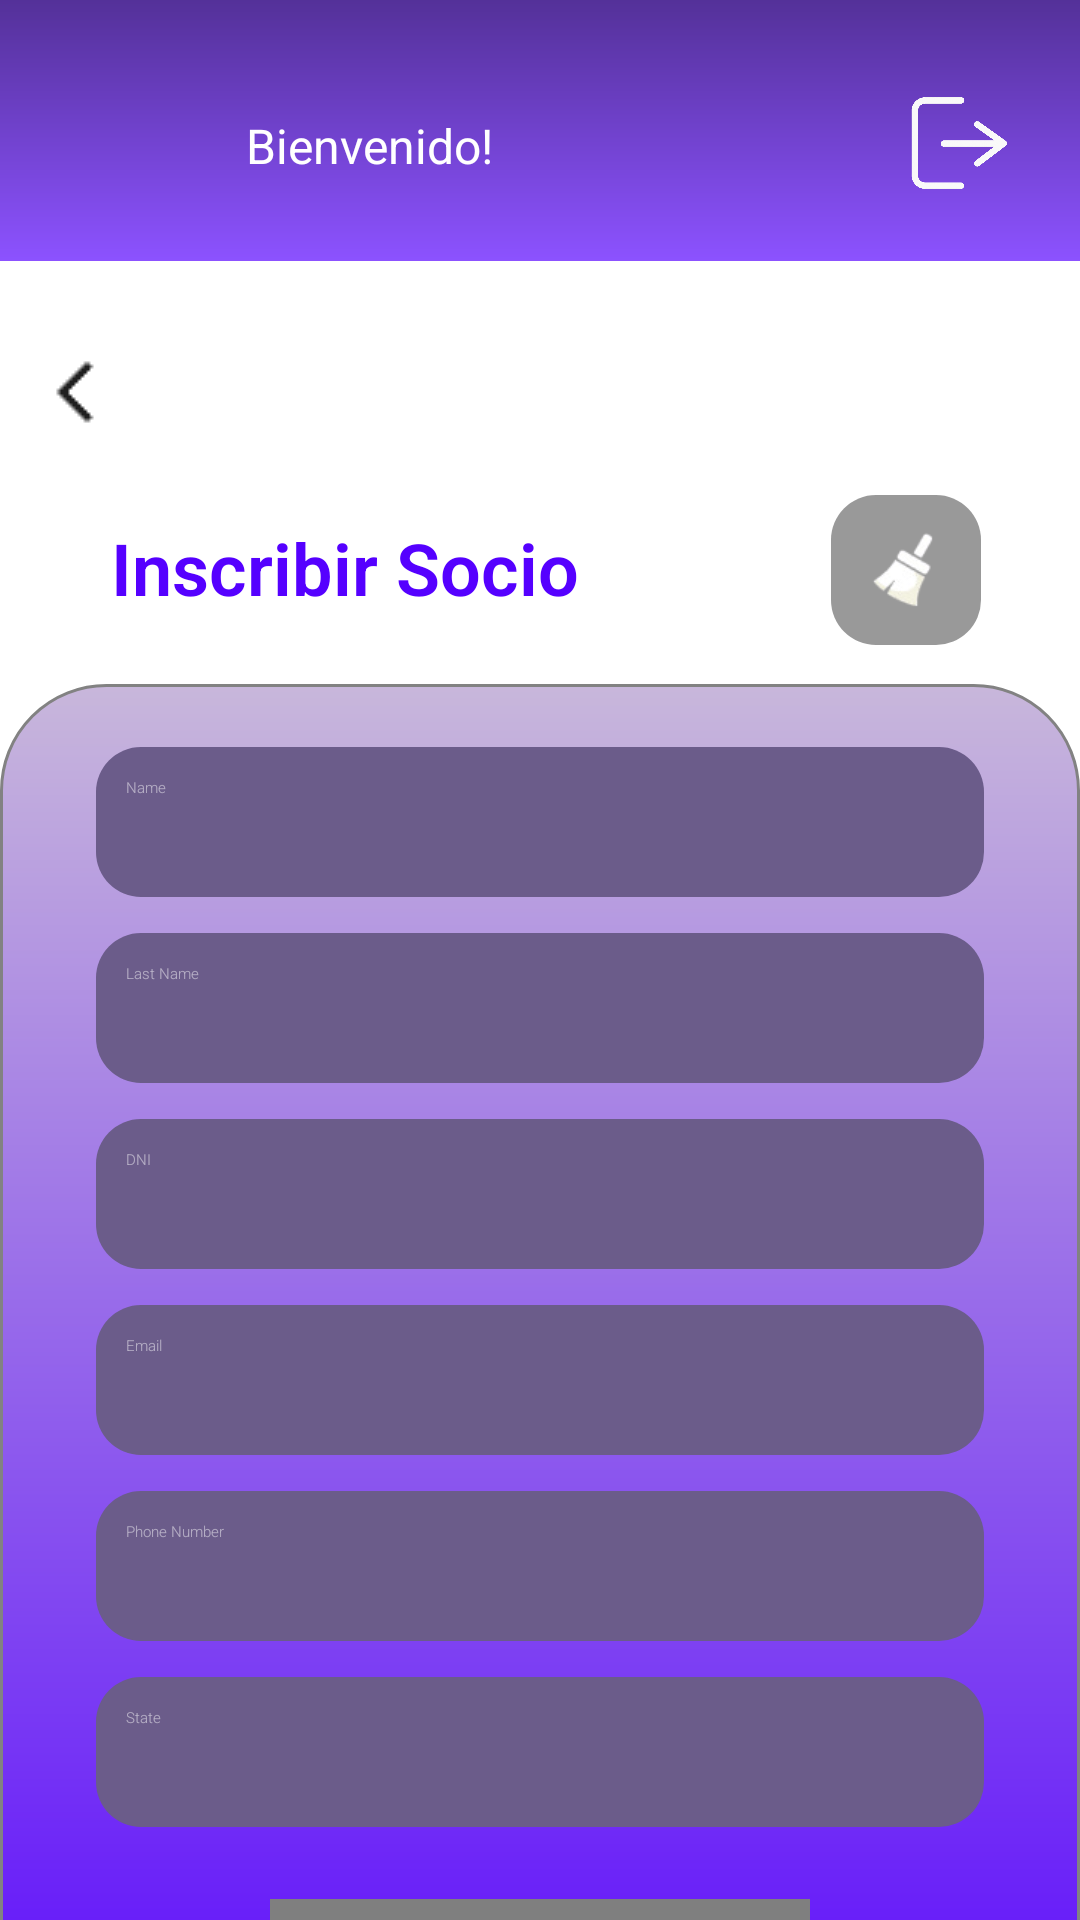

Screen size 1080 x 1920. Icon name, then its center in pixels as (x=x, y=y):
back: (x=75, y=392)
clear: (x=906, y=570)
salir: (x=957, y=145)
